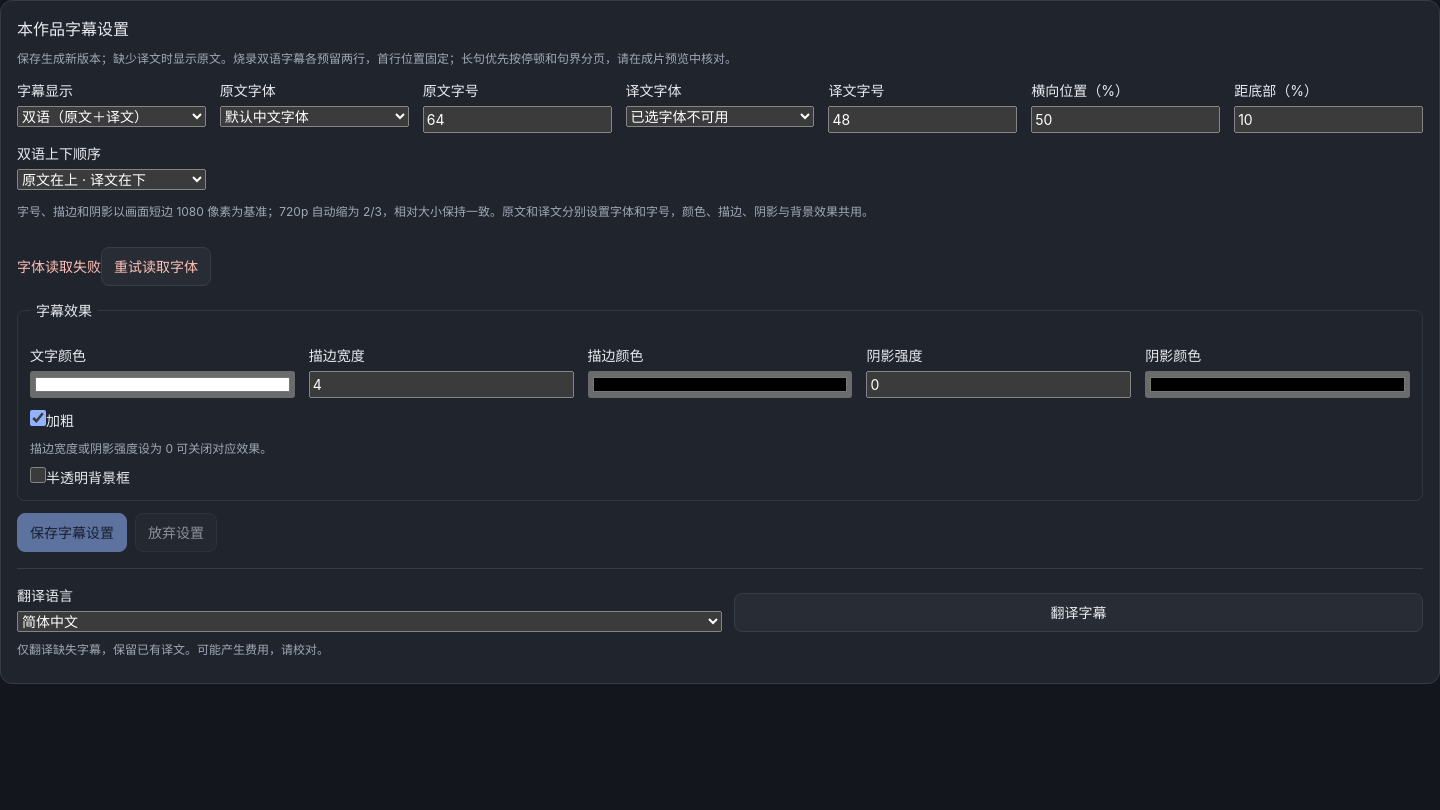
Test: 已选字体缺失时提示重选，字体读取失败可重试
The image size is (1440, 810).
Expected: the text "字体读取失败" is shown, 17,258 -> 101,275
Click the button "重试读取字体" at (156, 267), box 101,247 -> 211,286
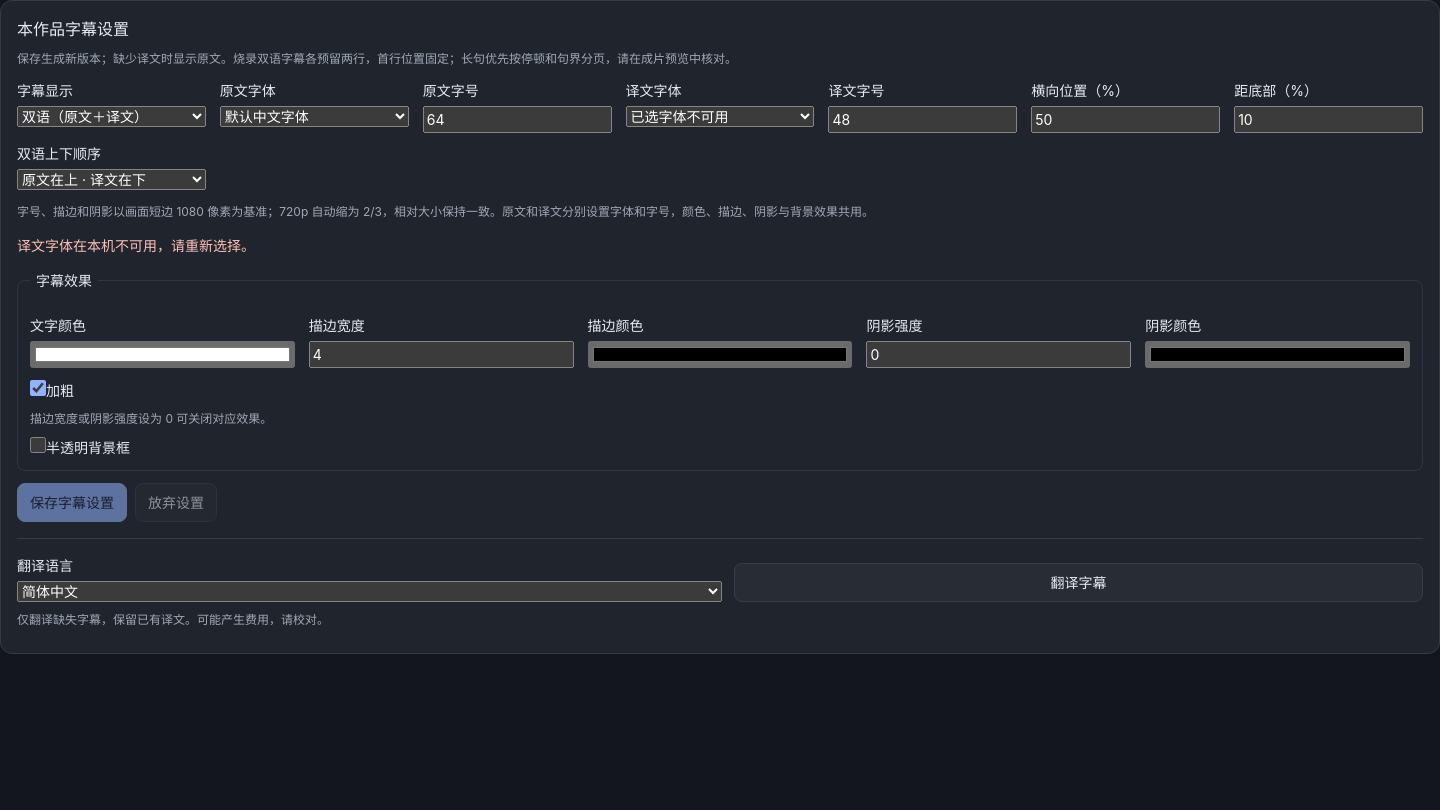
Now the text "译文字体在本机不可用，请重新选择。" is shown, box 17,237 -> 255,254
Replace the text in the number field labelled "原文字号" with "80" at (517, 120), box 423,106 -> 612,133
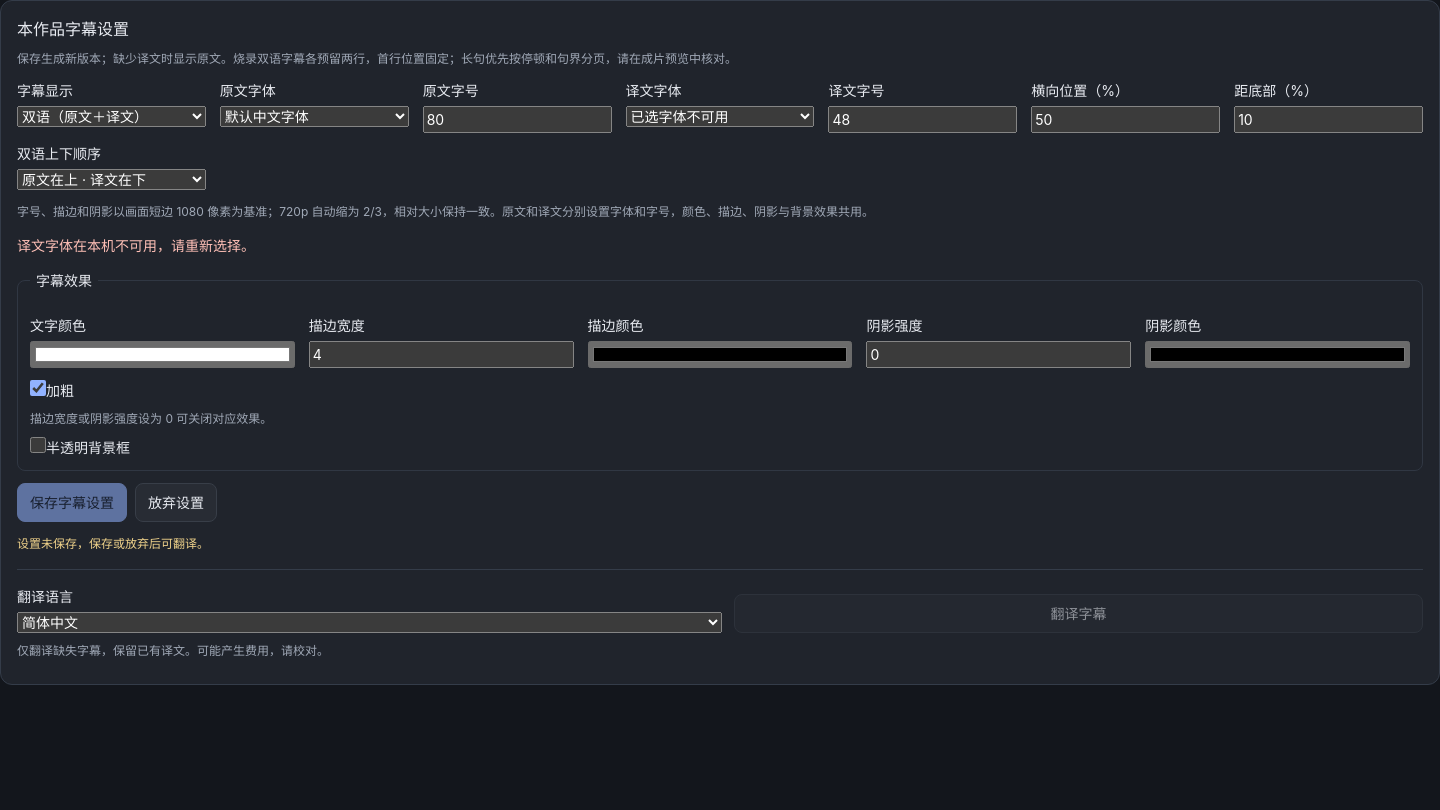
Expected: the button "保存字幕设置" is disabled, 17,483 -> 127,522
Select "黑体" in the dropdown labelled "译文字体" at (720, 117), box 626,106 -> 814,127
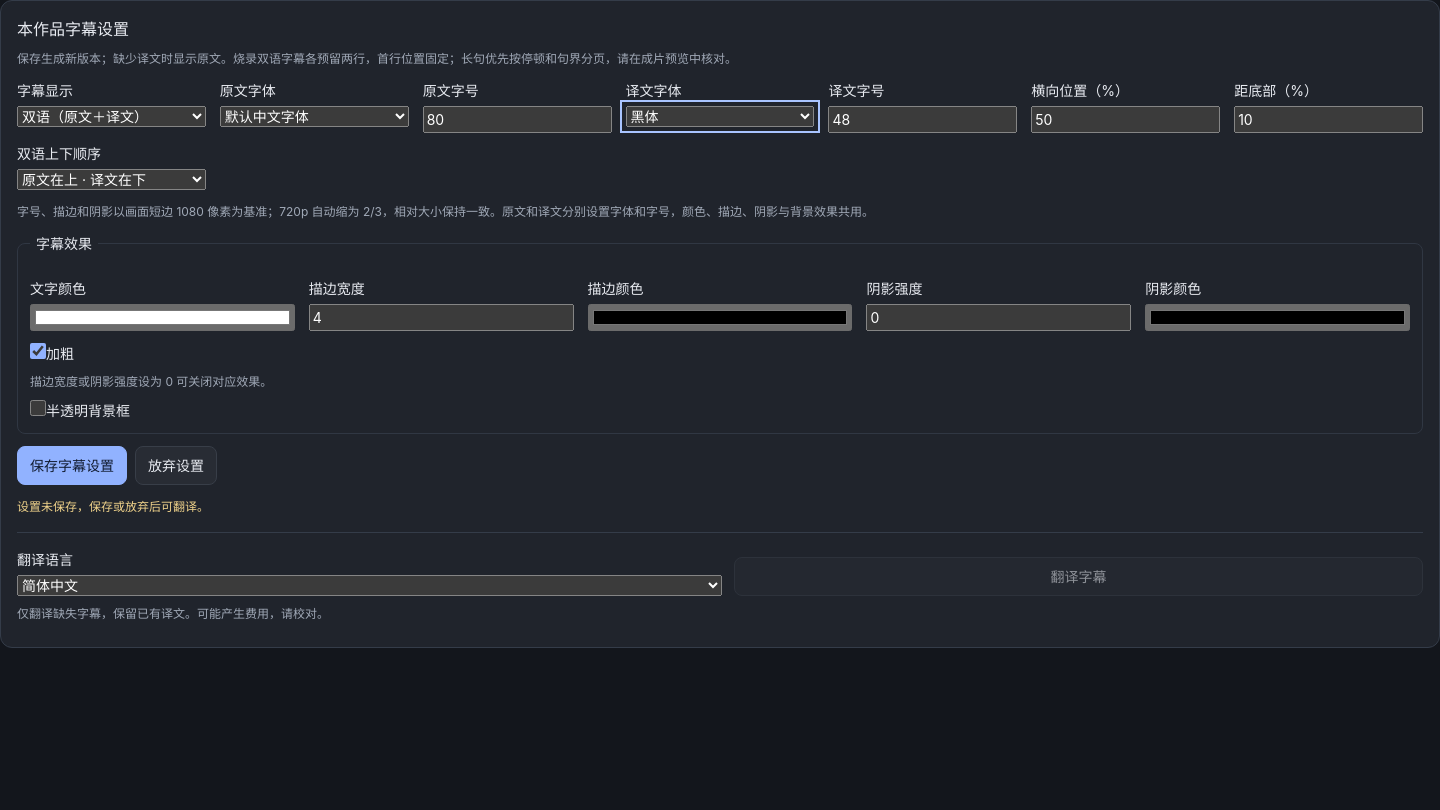
Expected: the dropdown labelled "原文字体" shows "默认中文字体", 220,106 -> 409,127
Now the button "保存字幕设置" is enabled, box 17,446 -> 127,485
